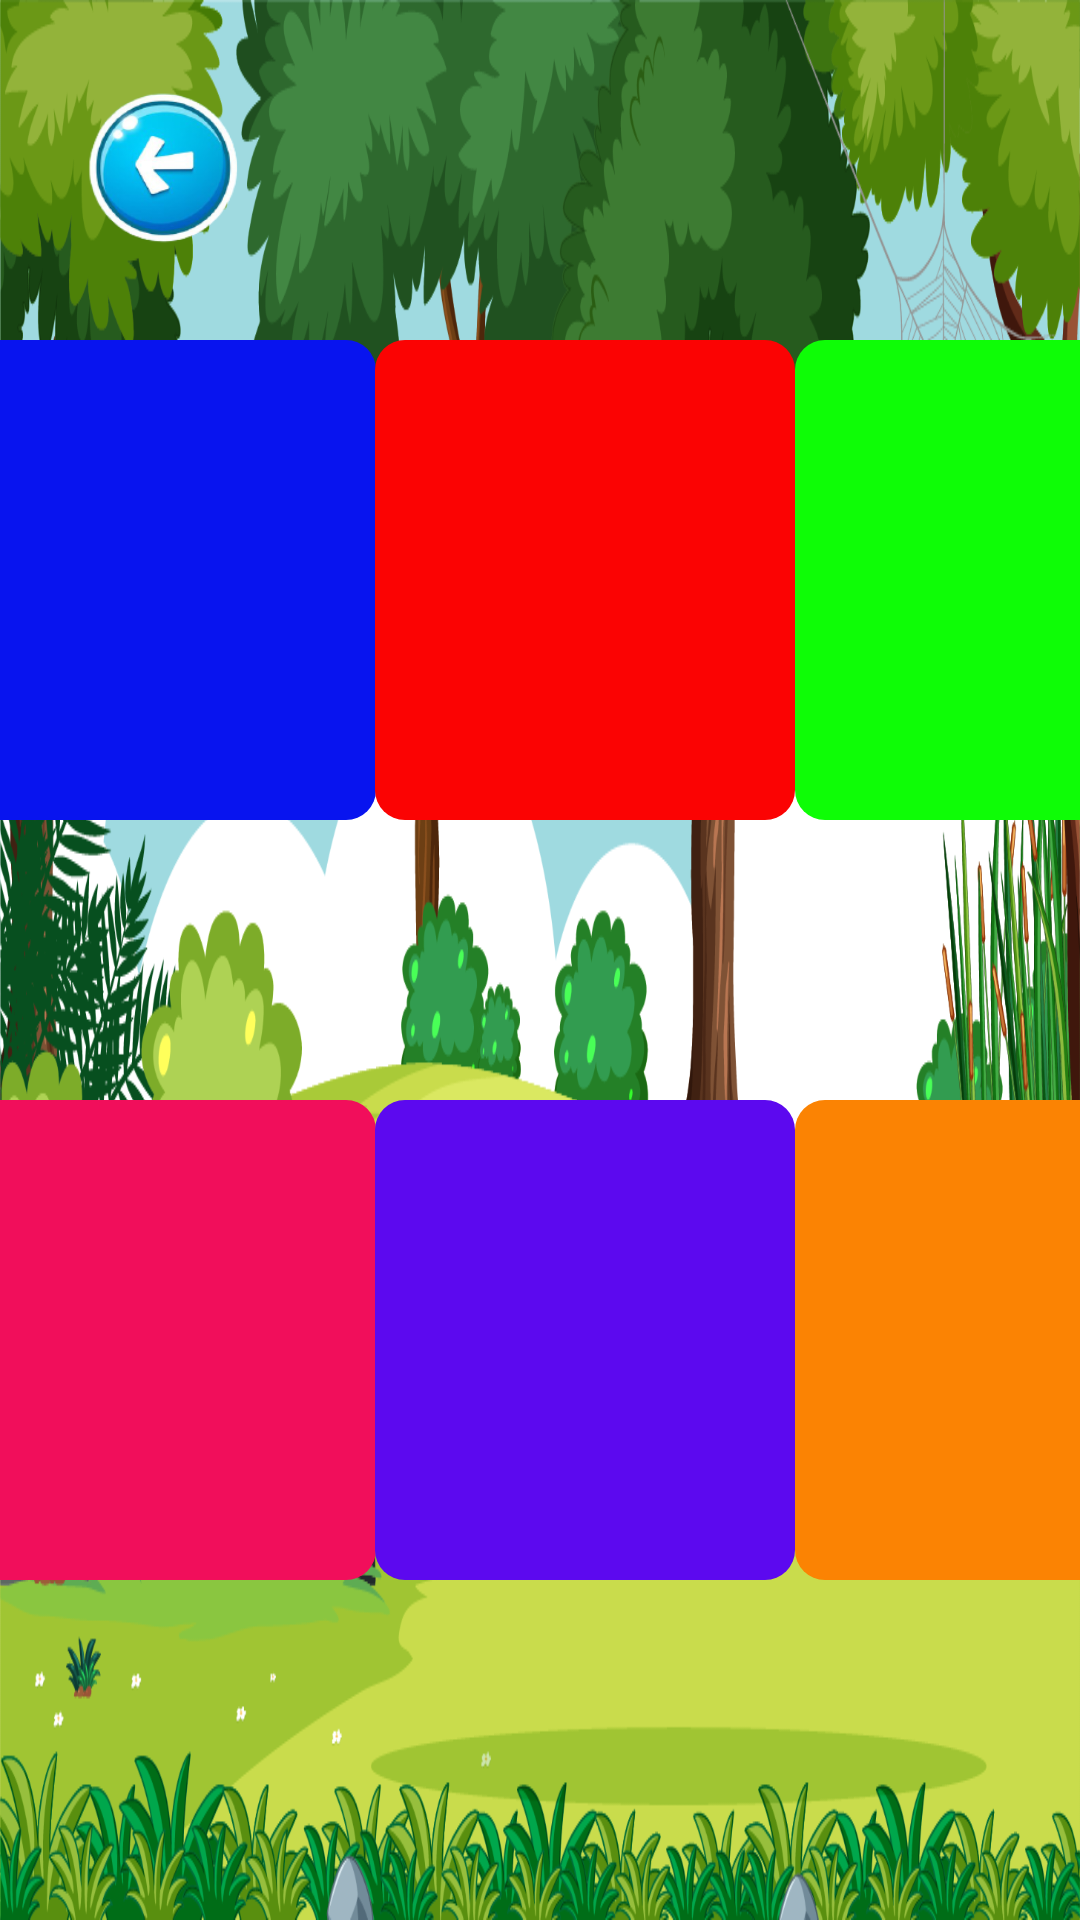

Icons on this 1080px x 1920px Android screen, each with the point to tap as (x=x, y=y):
back: (x=165, y=165)
